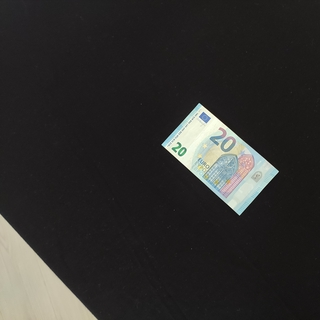20EUROFront: (161, 102, 279, 216)
